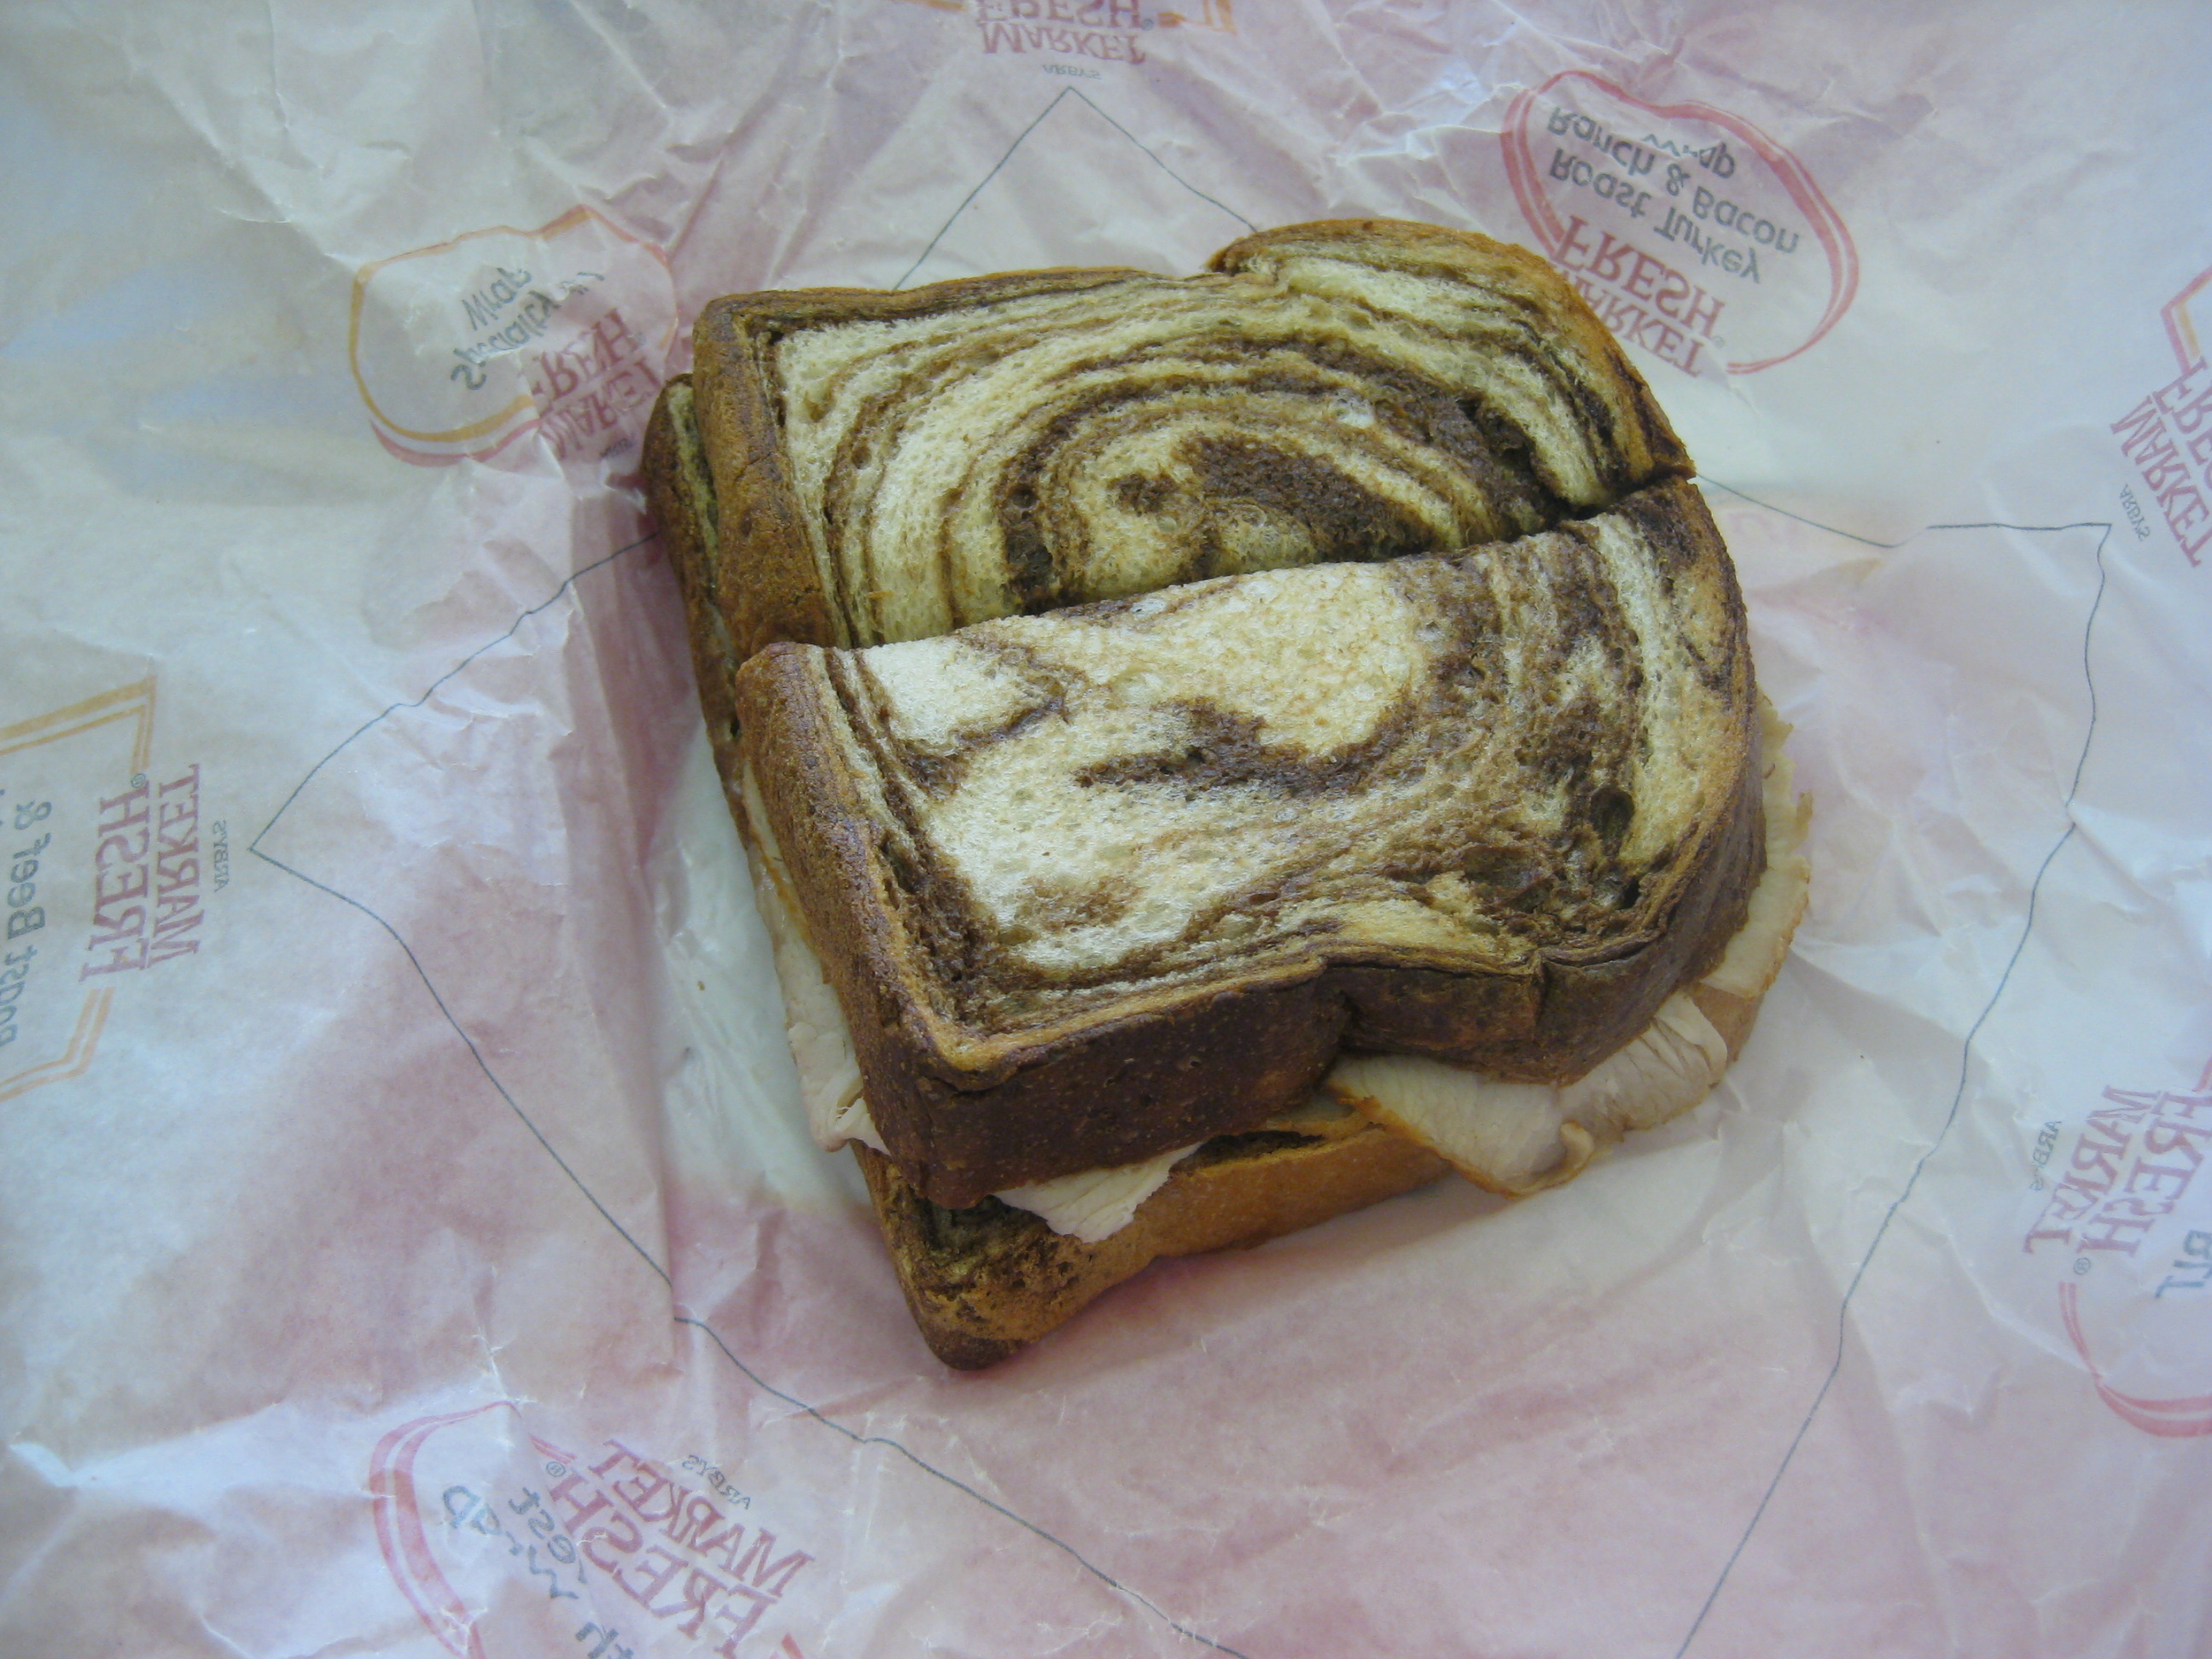sandwich: (575, 147, 1947, 1337)
